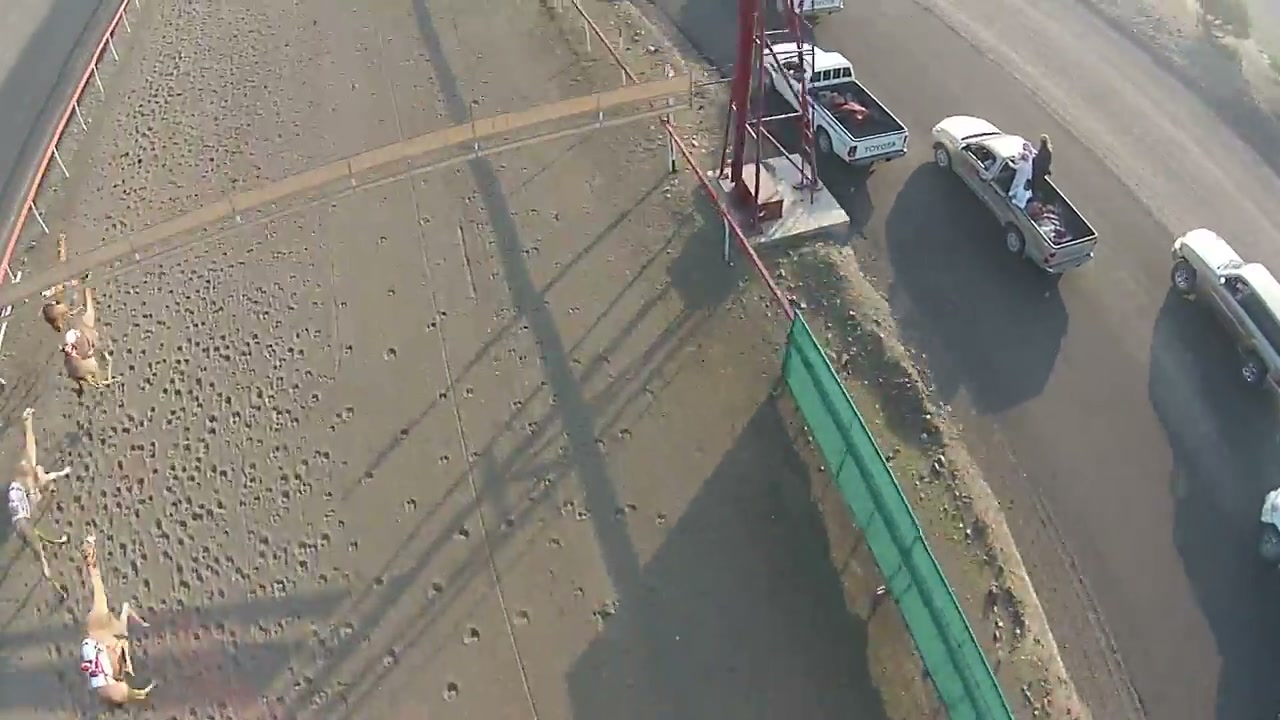animal_footprint: (58, 76, 309, 706), (304, 209, 591, 706)
